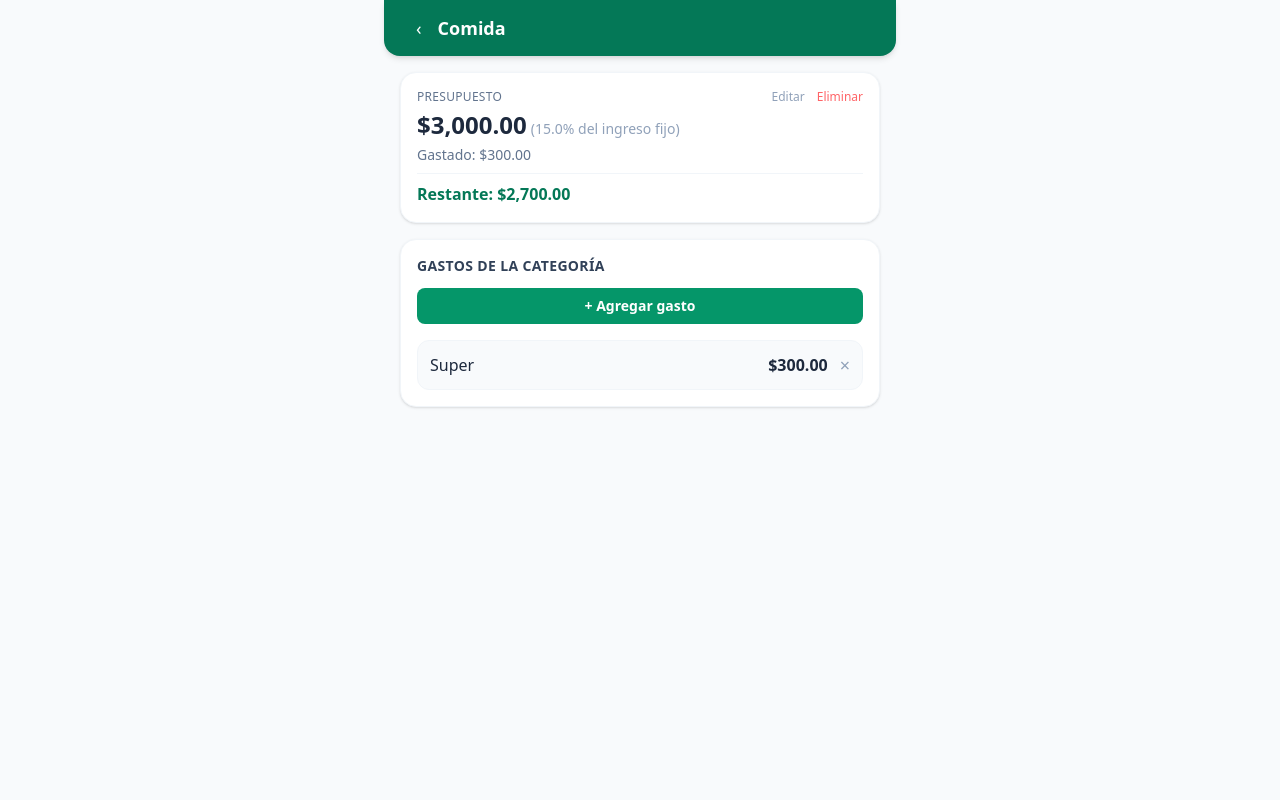
it: PresupuestoDetalleRoute › agregar un gasto nuevo actualiza el total gastado en la misma pantalla
Click the button "+ Agregar gasto" at (640, 306), box [417,288,863,324]
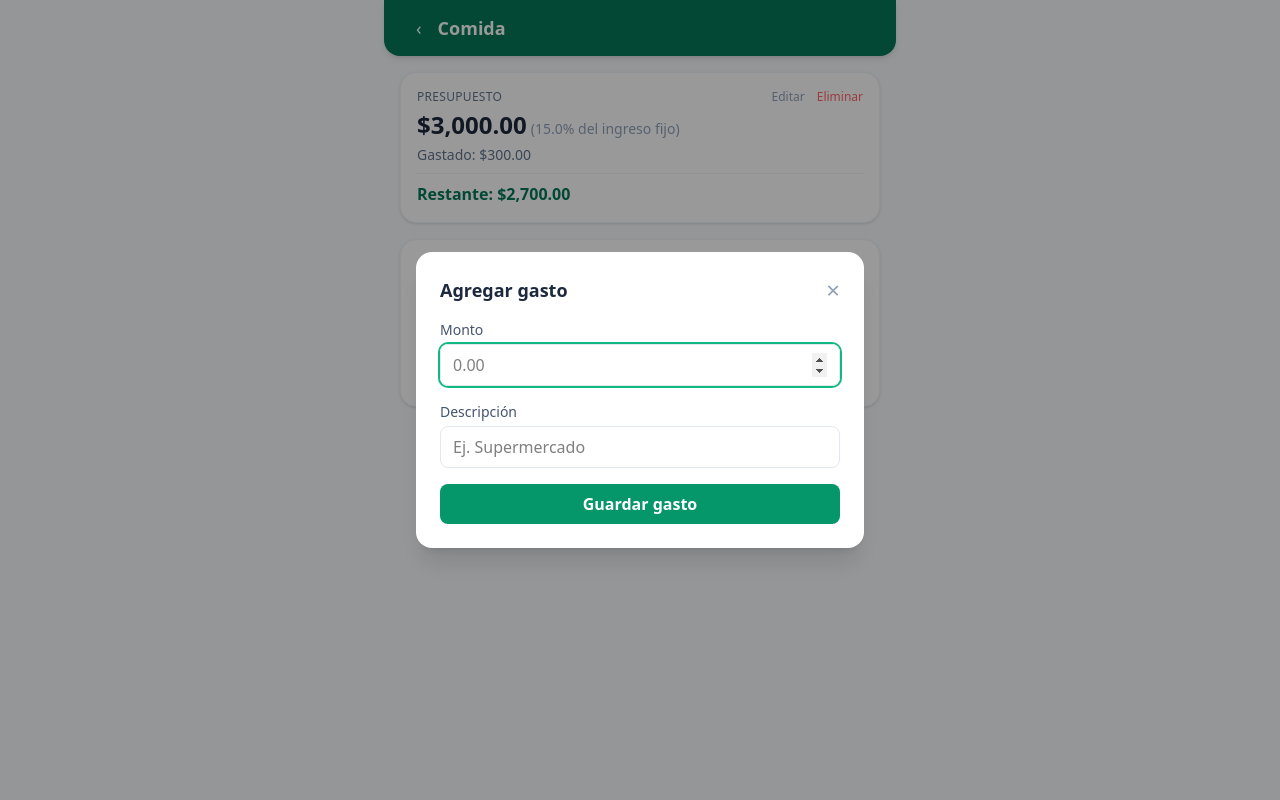
Type "200" into the number field with placeholder "0.00" at (640, 365), box [440,344,840,386]
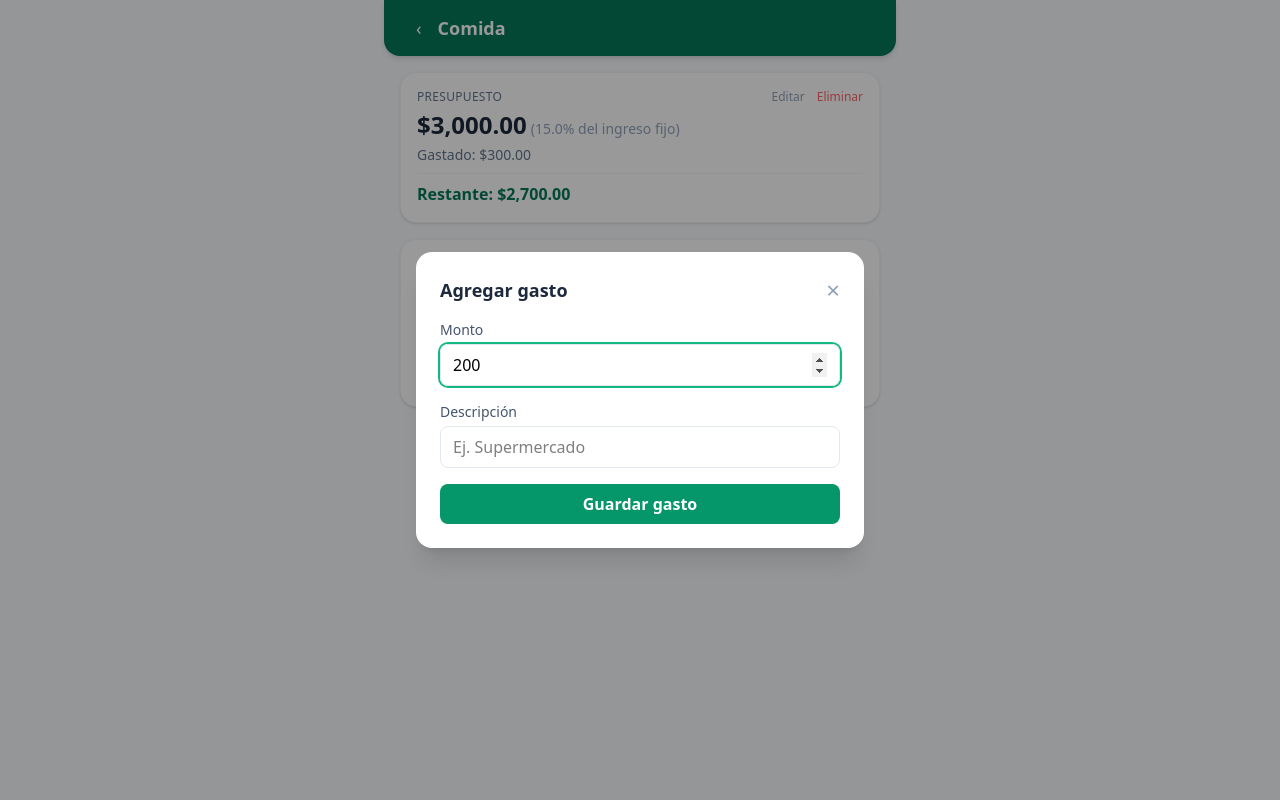
Type "Restaurante" into the field with placeholder "Ej. Supermercado" at (640, 447), box [440,426,840,468]
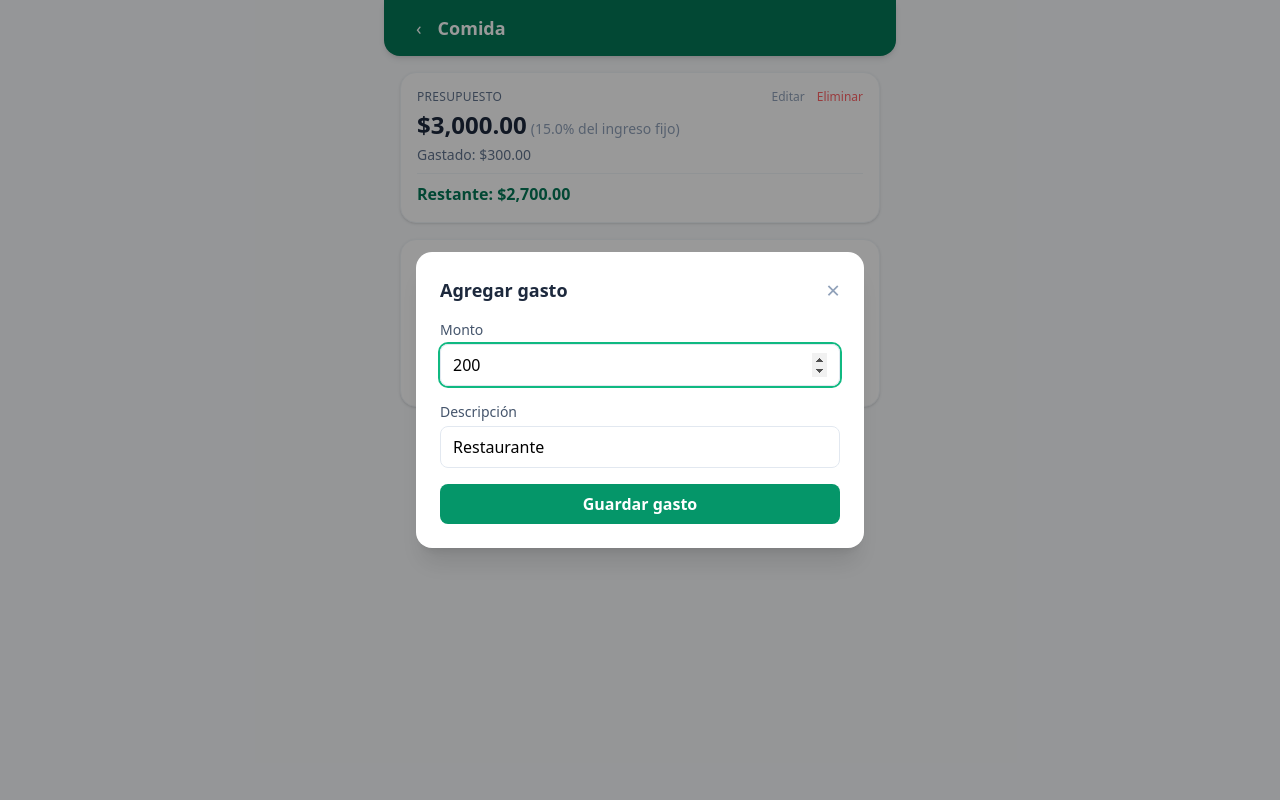
Click the button "Guardar gasto" at (640, 504), box [440,484,840,524]
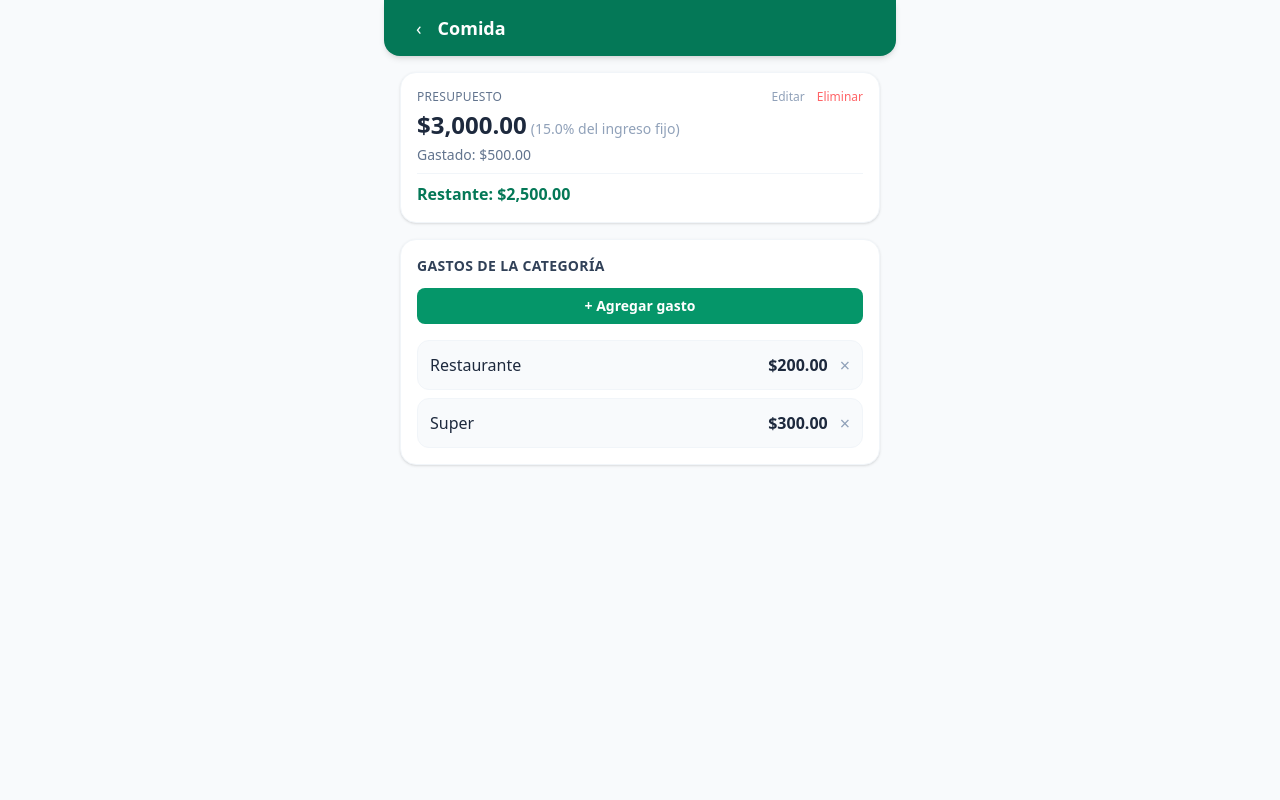
Expected: the text "Restaurante" is shown, [430,353,521,377]
Expected: the text "Gastado: $500.00" is shown, [417,145,531,164]
